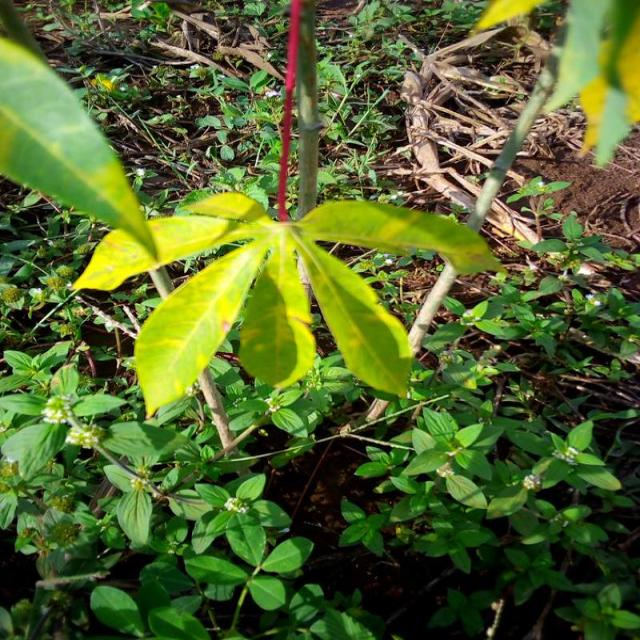cassava leaf: (70, 188, 506, 418), (0, 34, 158, 261)
